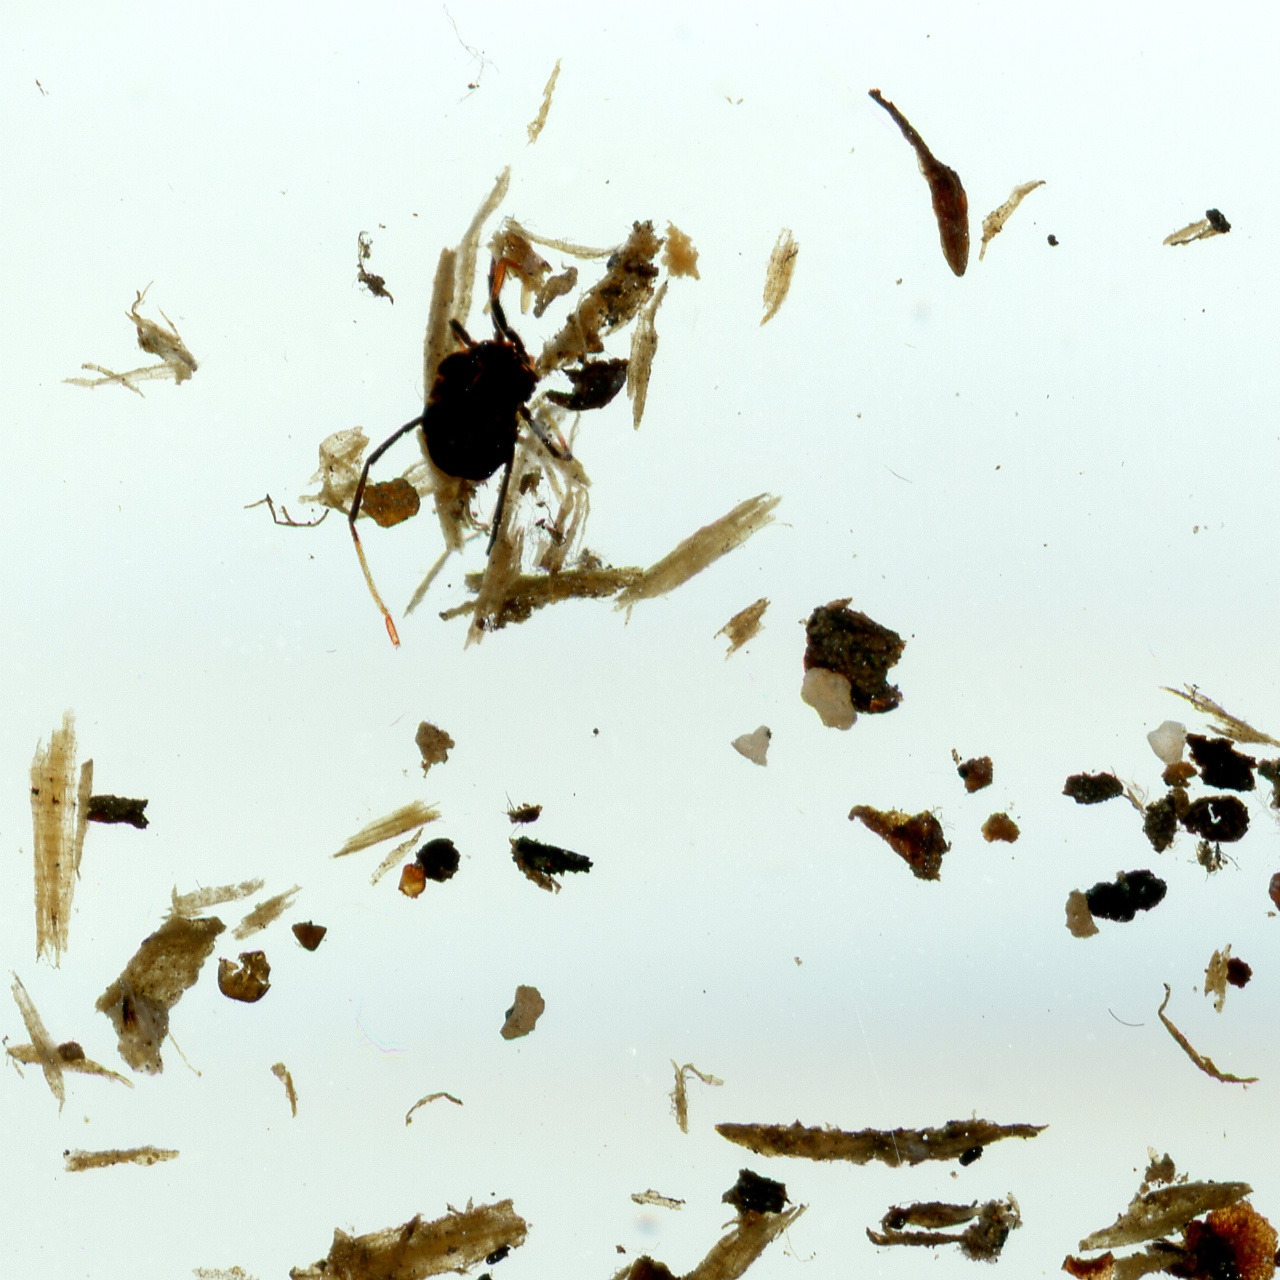arthropod: (341, 218, 577, 654)
